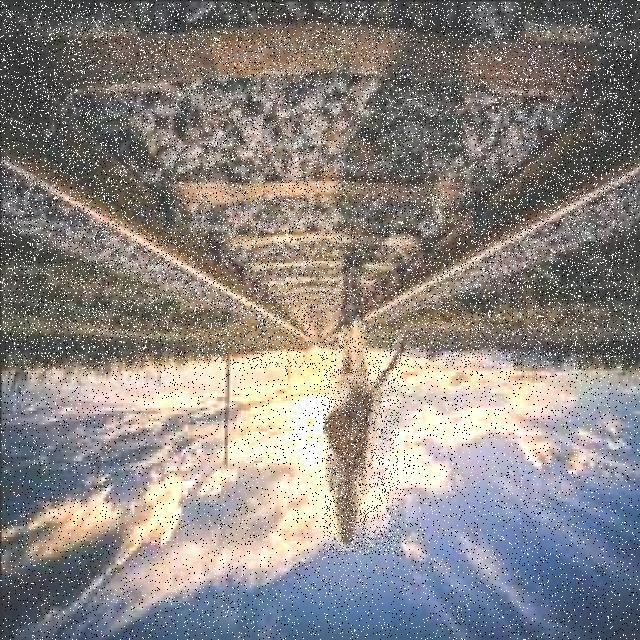danger: (323, 255, 399, 556)
rail: (0, 3, 636, 368)
